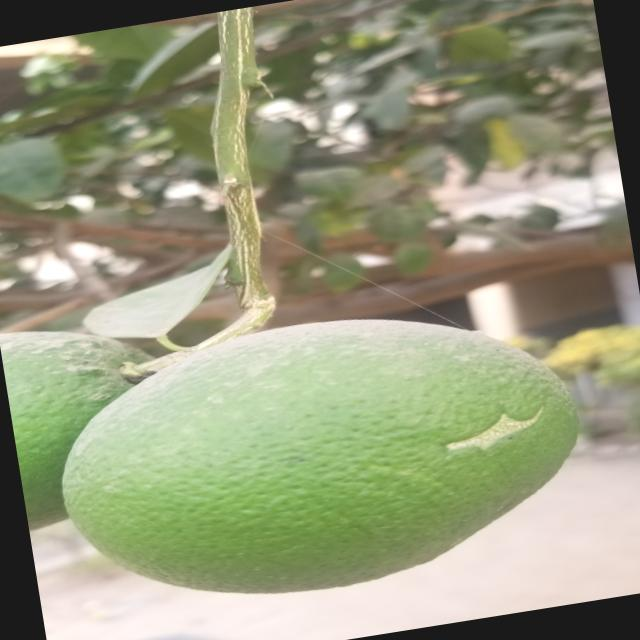Unripe: (55, 280, 587, 620), (0, 308, 187, 531)
